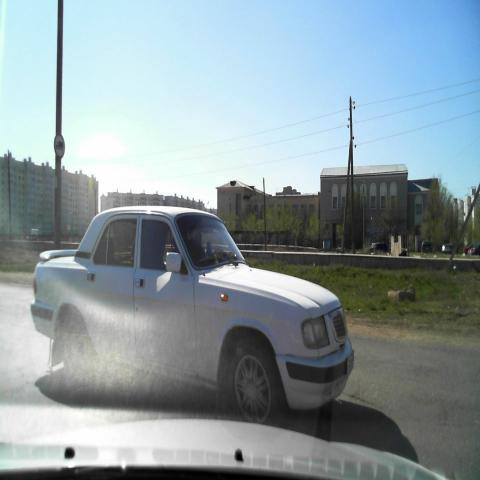3_4_1: (52, 133, 66, 162)
